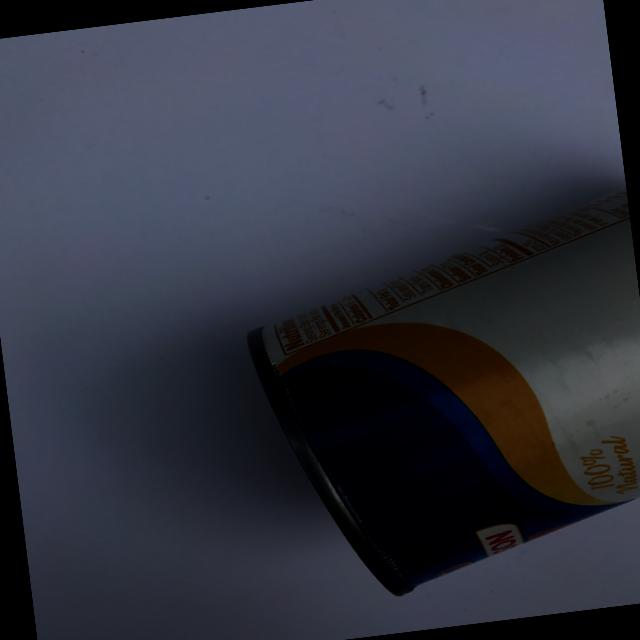Metal: (226, 183, 640, 617)
